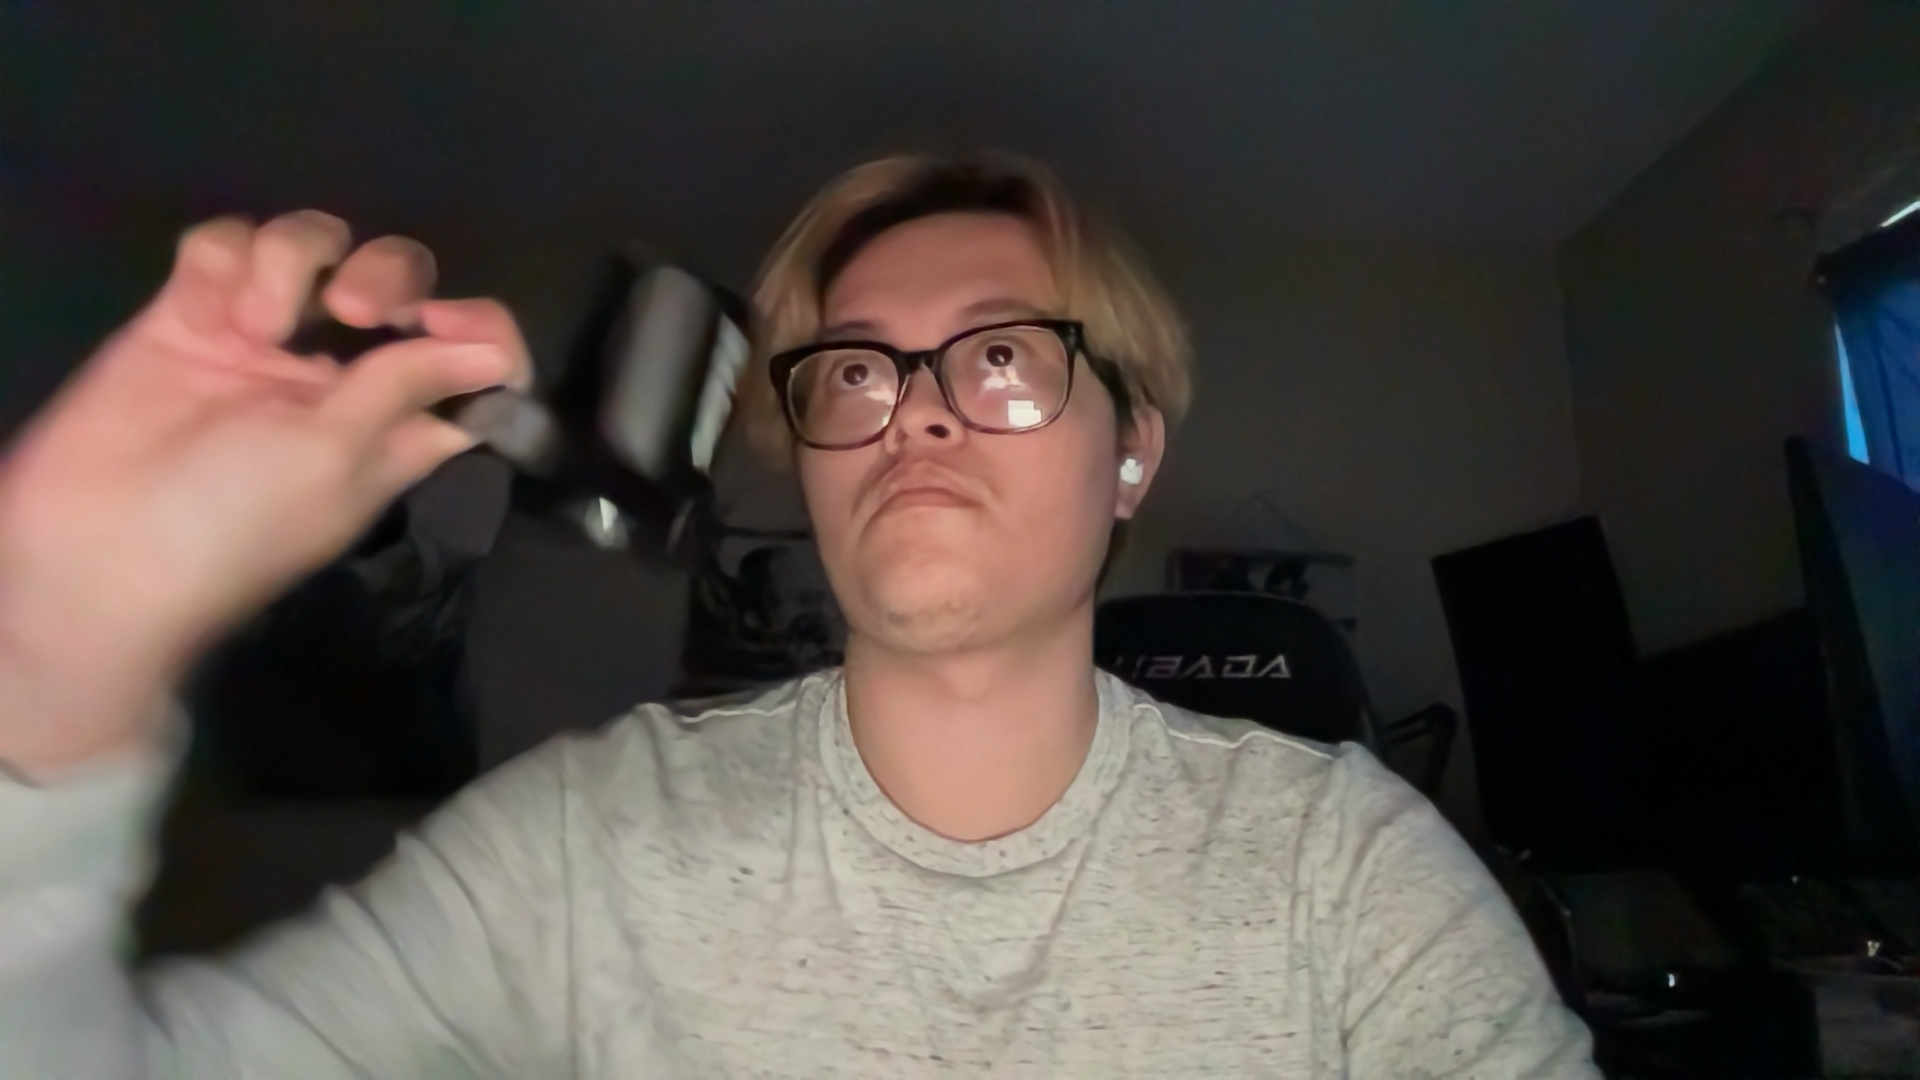microphone: (417, 248, 774, 767)
